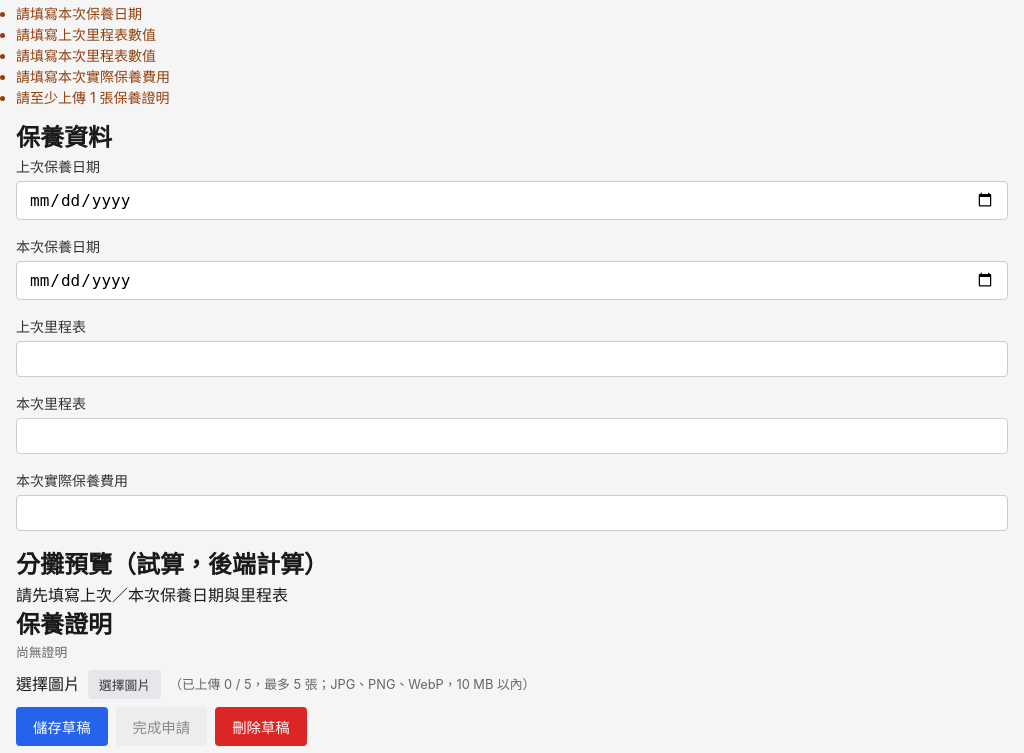
MaintenanceApplicationPage › AC-34：後端 400 之 fields[] 就地標示於對應欄位
The image size is (1024, 753).
(page scrolled)
Check: the number field labelled "本次實際保養費用" is shown, box 16,495 -> 1008,531
Click the button "儲存草稿".
click(62, 726)  # box 16,707 -> 108,746
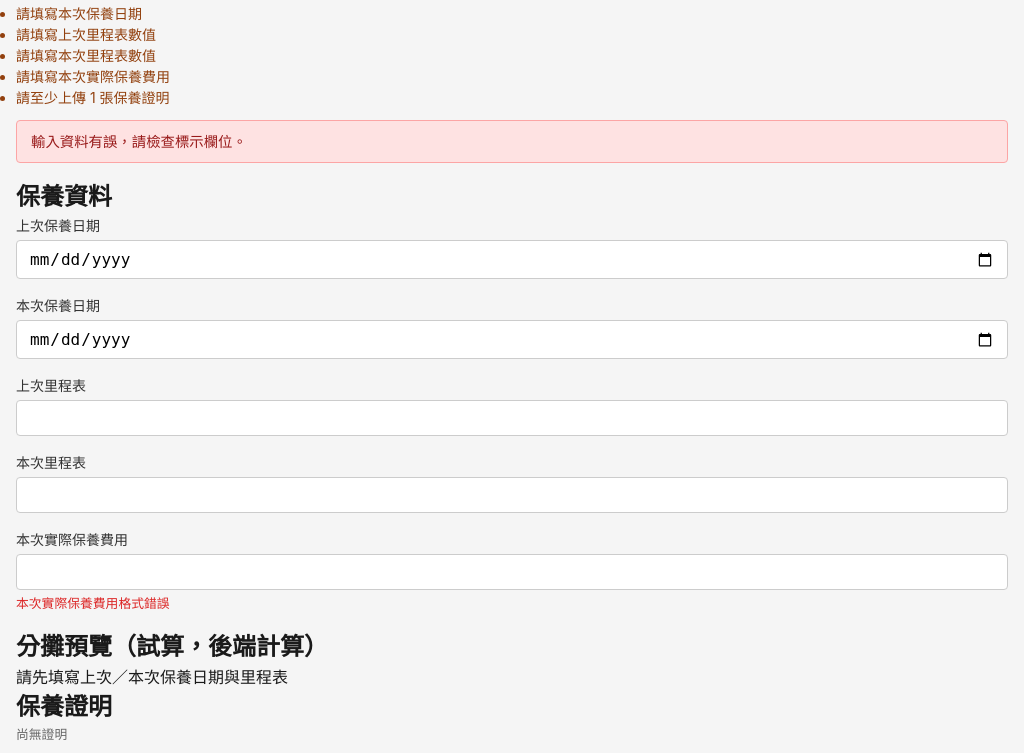
Check: the text "本次實際保養費用格式錯誤" is shown, box 16,596 -> 170,611
